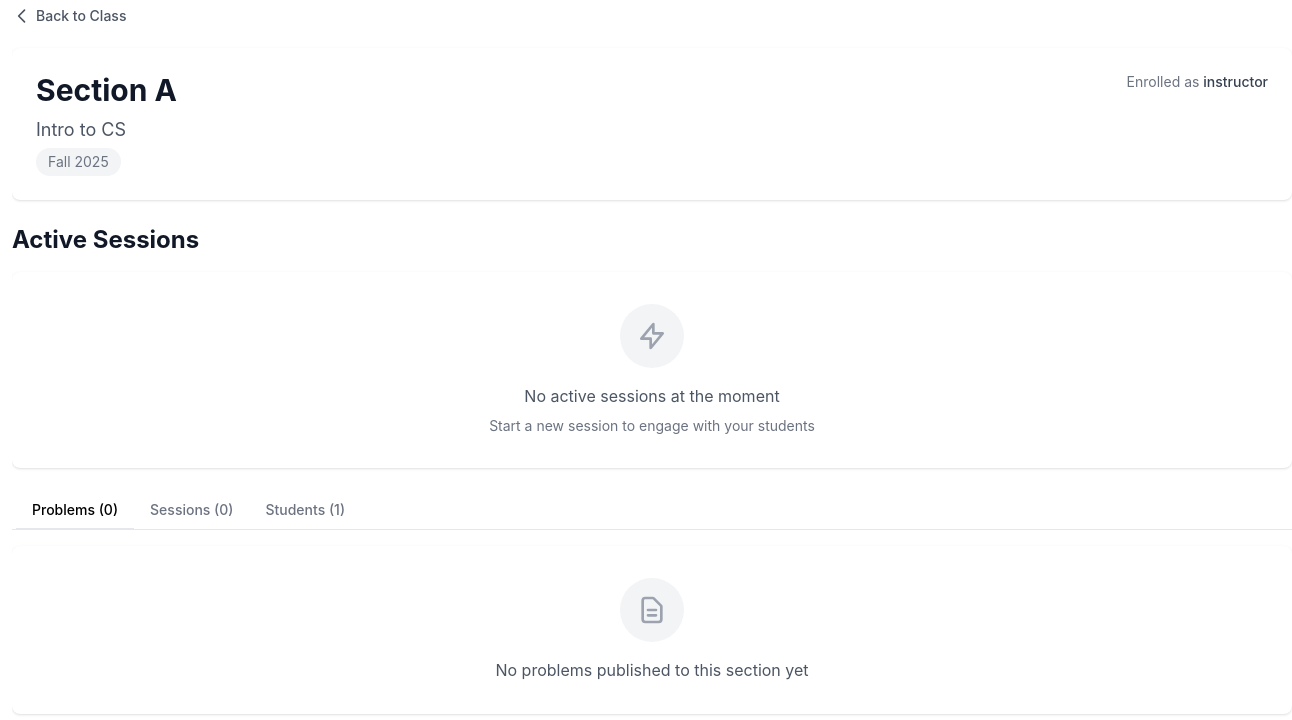
InstructorSectionView › mobile responsive layout › students table container has overflow-x-auto for horizontal scrolling
This screenshot has width=1292, height=720.
Click the tab "Students (1)".
click(305, 511)  # box [250,492,361,530]
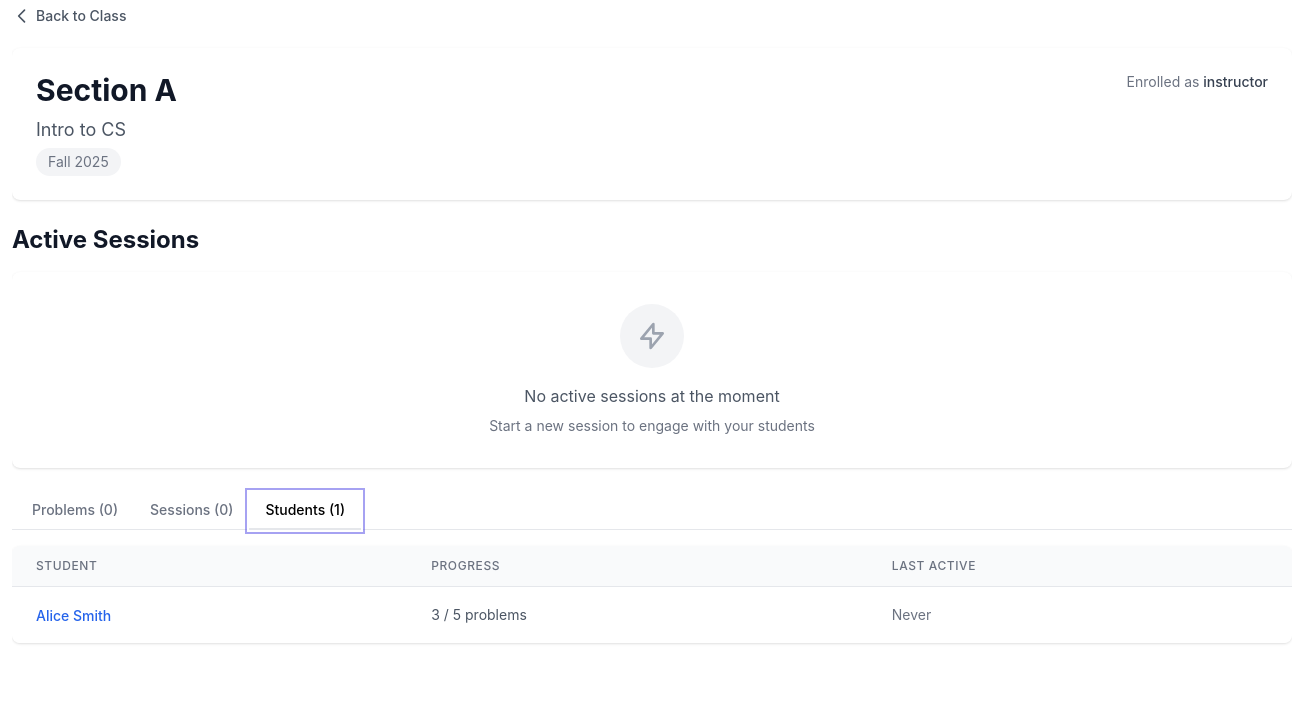
Check: the element with test id "students-table-container" is shown, box [12,546,1291,643]
